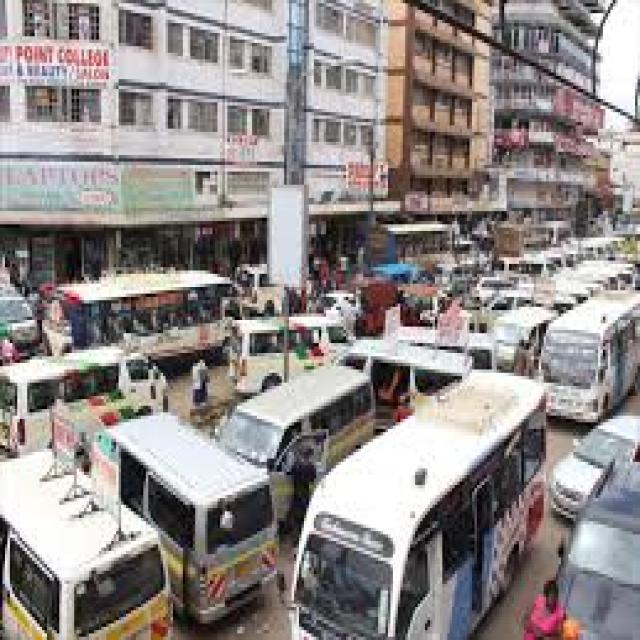bus: (304, 446, 542, 636), (46, 250, 258, 342), (542, 323, 624, 420), (374, 218, 464, 269)
matatu: (0, 431, 162, 640), (179, 430, 280, 632), (3, 347, 170, 411), (243, 366, 379, 433), (278, 304, 357, 356)
